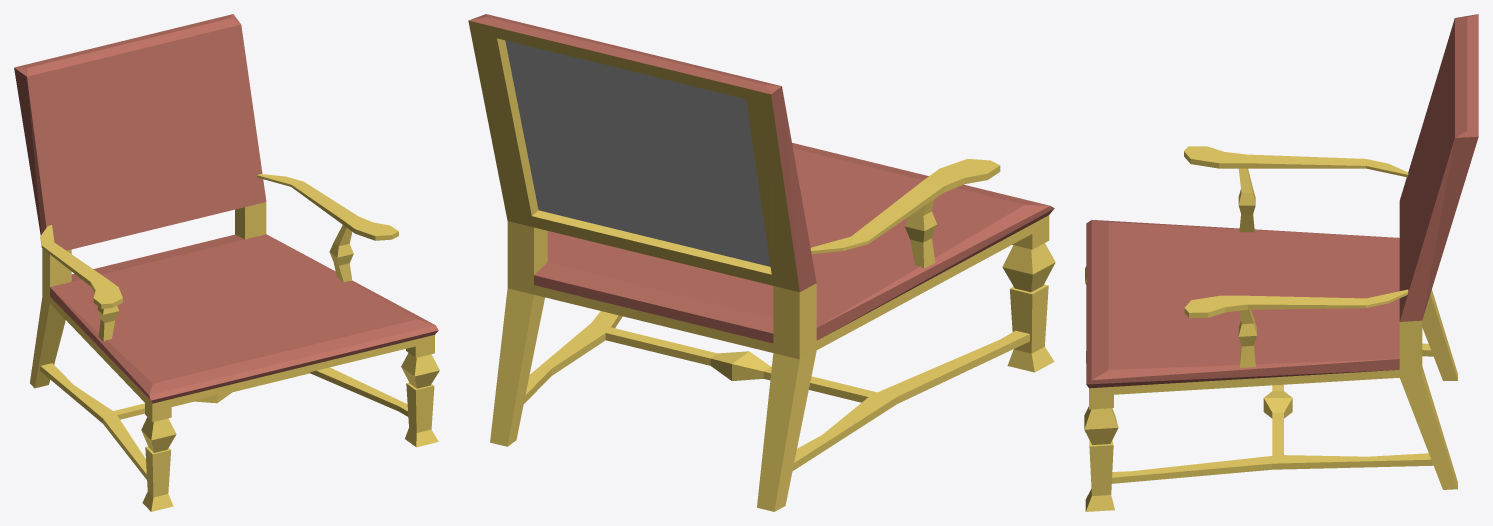
File: sh-contrib-chair-high.glb
3 views of the same model, side by side, from view 1: azimuth 30°, elevation 25°; view 2: azimuth 150°, elevation 25°; view 3: azimuth 270°, elevation 25° (orthographic). The views are drawn at different scales.
Parts seen in each view (by area): view 1: 3_3, 7_7; view 2: 7_7, 3_3, 9_9; view 3: 3_3, 7_7.
Part boxes in pixels (x1=…): 3_3: x1=14, y1=14, x2=438, y2=403; 7_7: x1=30, y1=174, x2=439, y2=511; 7_7: x1=468, y1=20, x2=1055, y2=511; 3_3: x1=469, y1=14, x2=1054, y2=343; 9_9: x1=505, y1=40, x2=770, y2=266; 3_3: x1=1086, y1=14, x2=1478, y2=388; 7_7: x1=1084, y1=146, x2=1457, y2=511.
Bounding box in the file's own units: 1 × 1 × 1.
